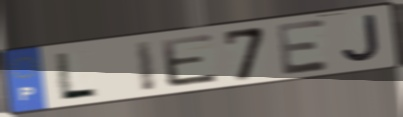7: (222, 25, 267, 83)
E: (158, 31, 222, 89), (274, 16, 332, 77)
I: (132, 37, 159, 94)
J: (340, 12, 384, 65)
L: (53, 50, 100, 100)
